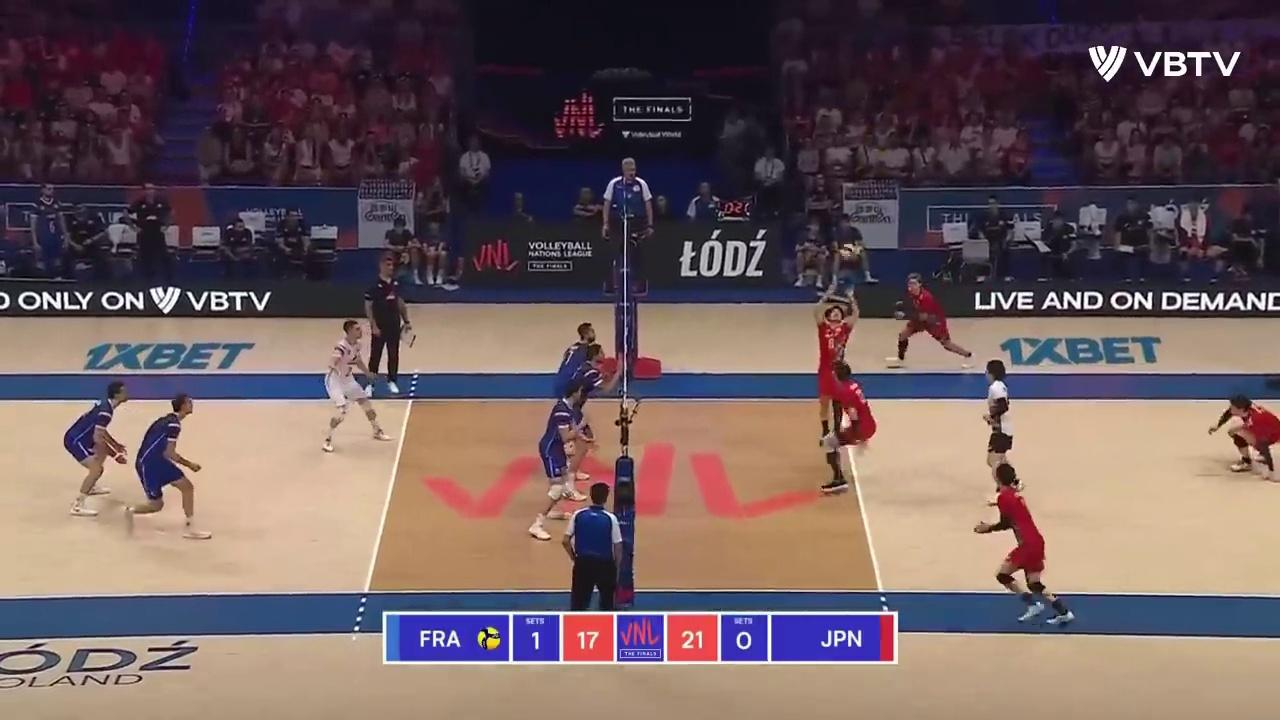ball: (839, 243, 853, 261)
